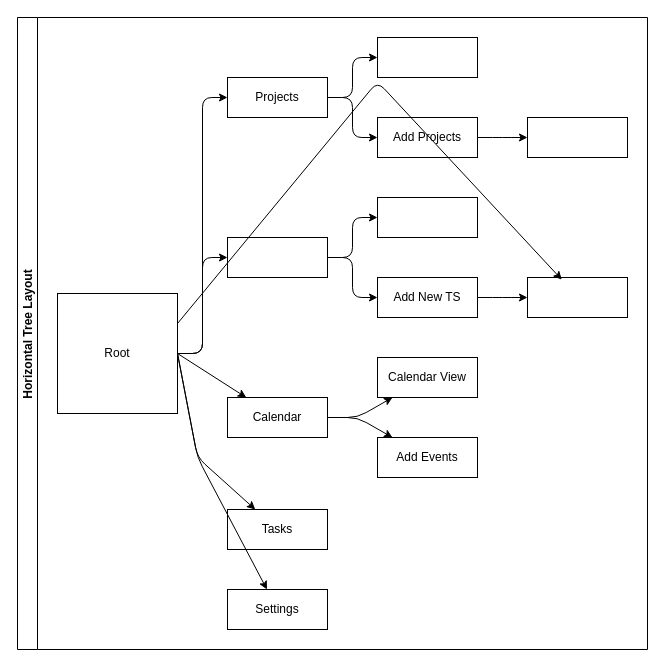
Image size: 665x667. Some labels were removed from this diagram. The box of each missing label's shape, as (x1, y1, x2, y2) in pixels:
Project Form: (526, 116, 628, 158)
Projects List: (376, 36, 478, 78)
Time Sheet: (226, 236, 328, 278)
Time Sheet Form: (526, 276, 628, 318)
Time Sheets: (376, 196, 478, 238)
